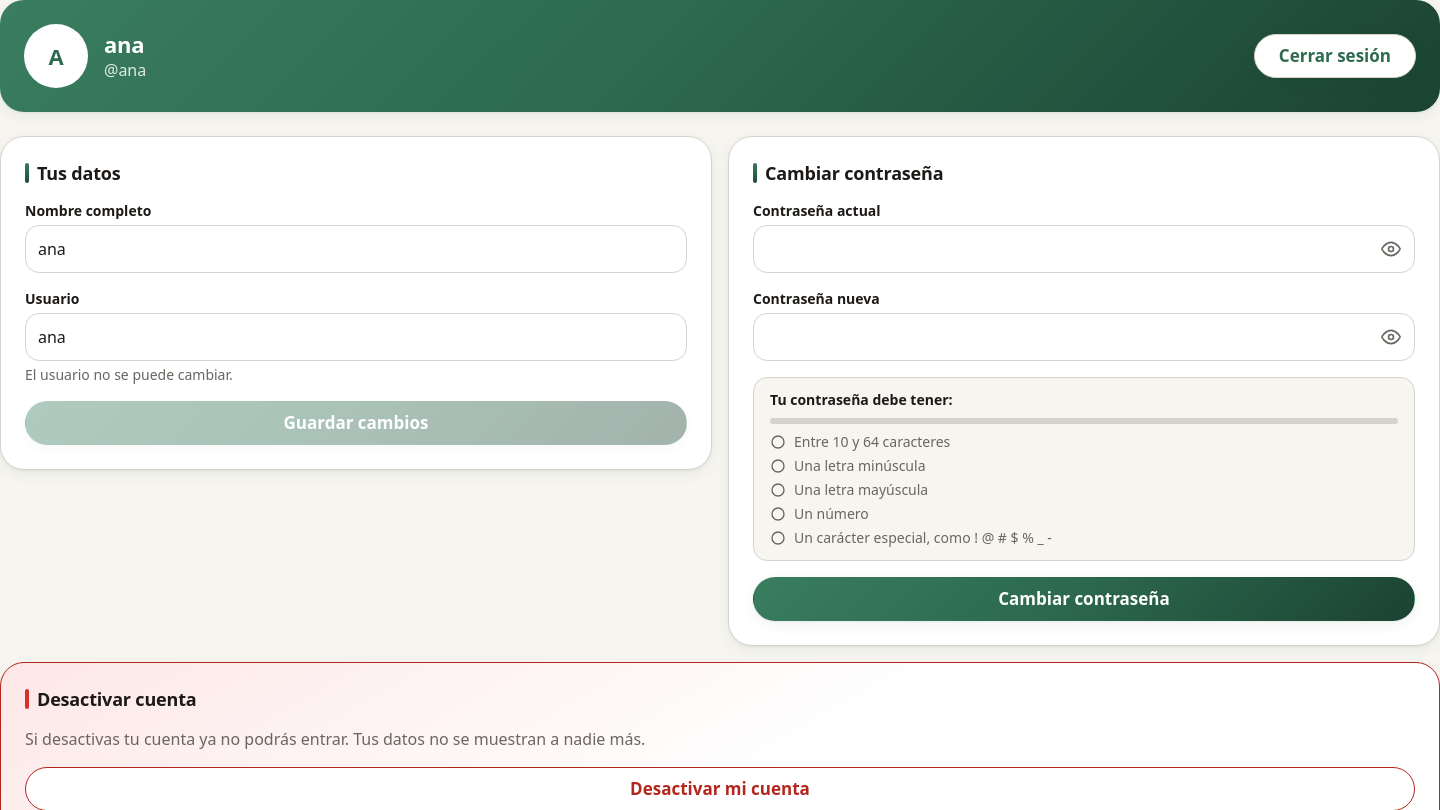
Test: Account › says the current password is wrong and keeps the session
Type "no-es-esta" into the password field labelled "Contraseña actual" at (1062, 249), box [754,226,1369,272]
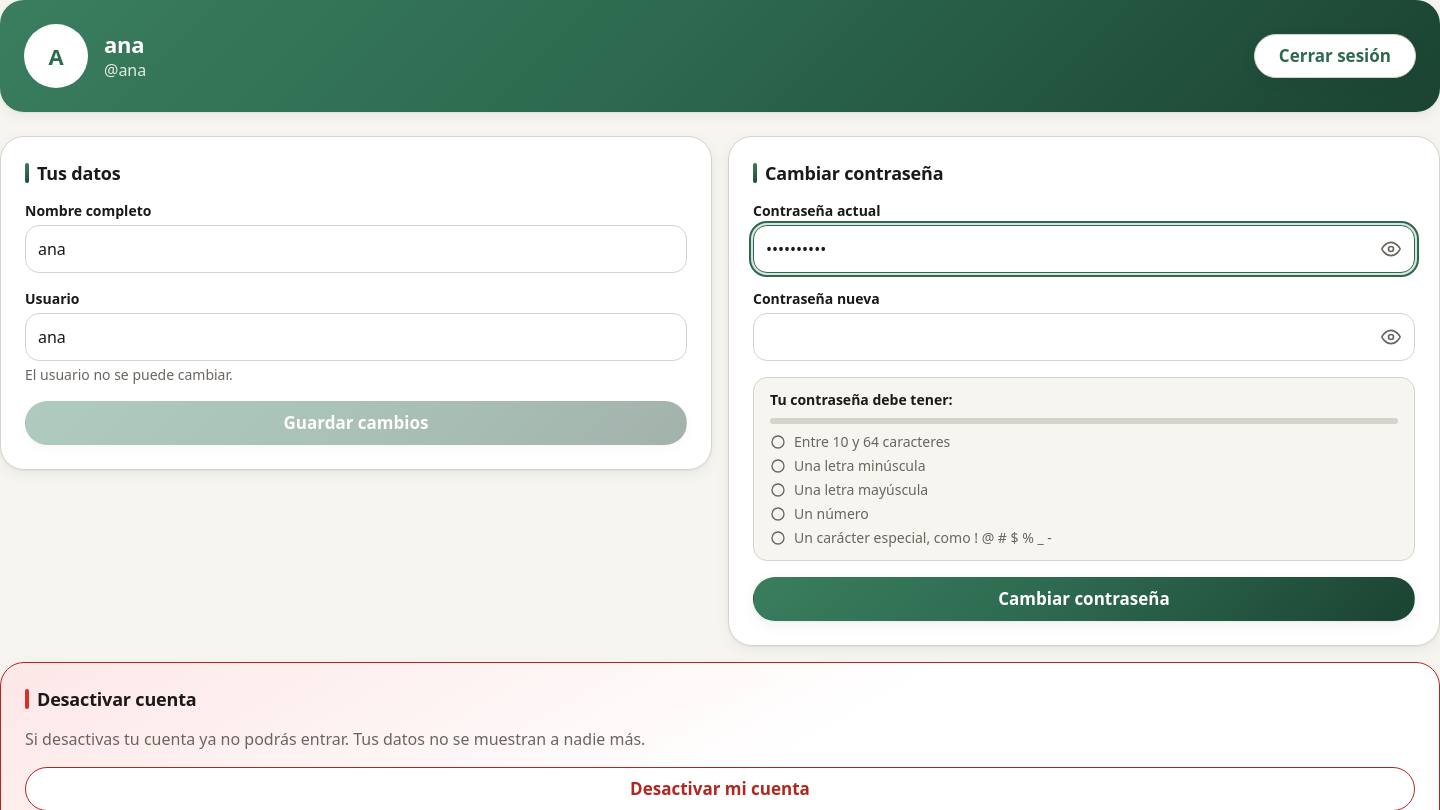
Type "Otra-clave-456!" into the password field labelled "Contraseña nueva" at (1062, 337), box [754,314,1369,360]
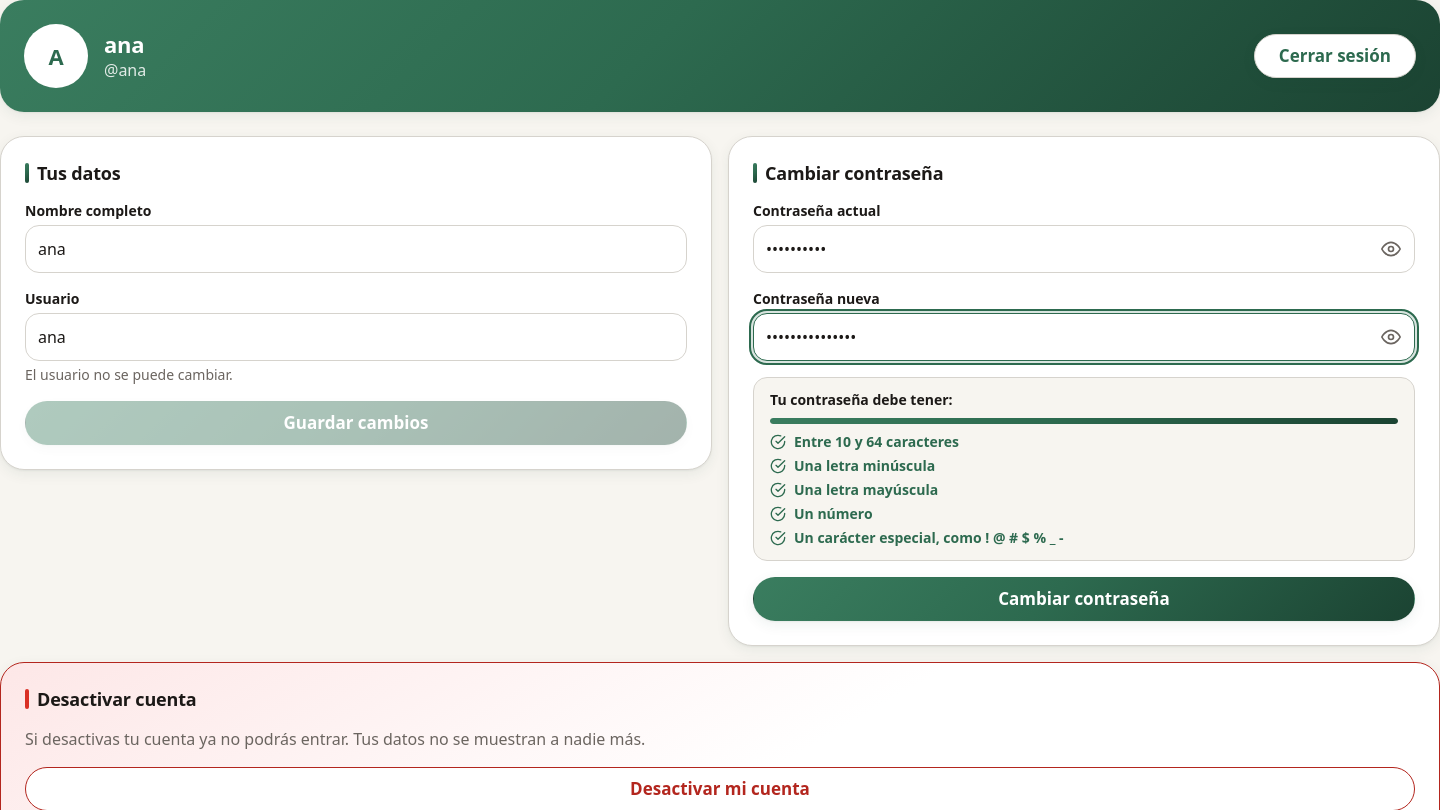
Click the button "Cambiar contraseña" at (1084, 599), box [753,577,1415,621]
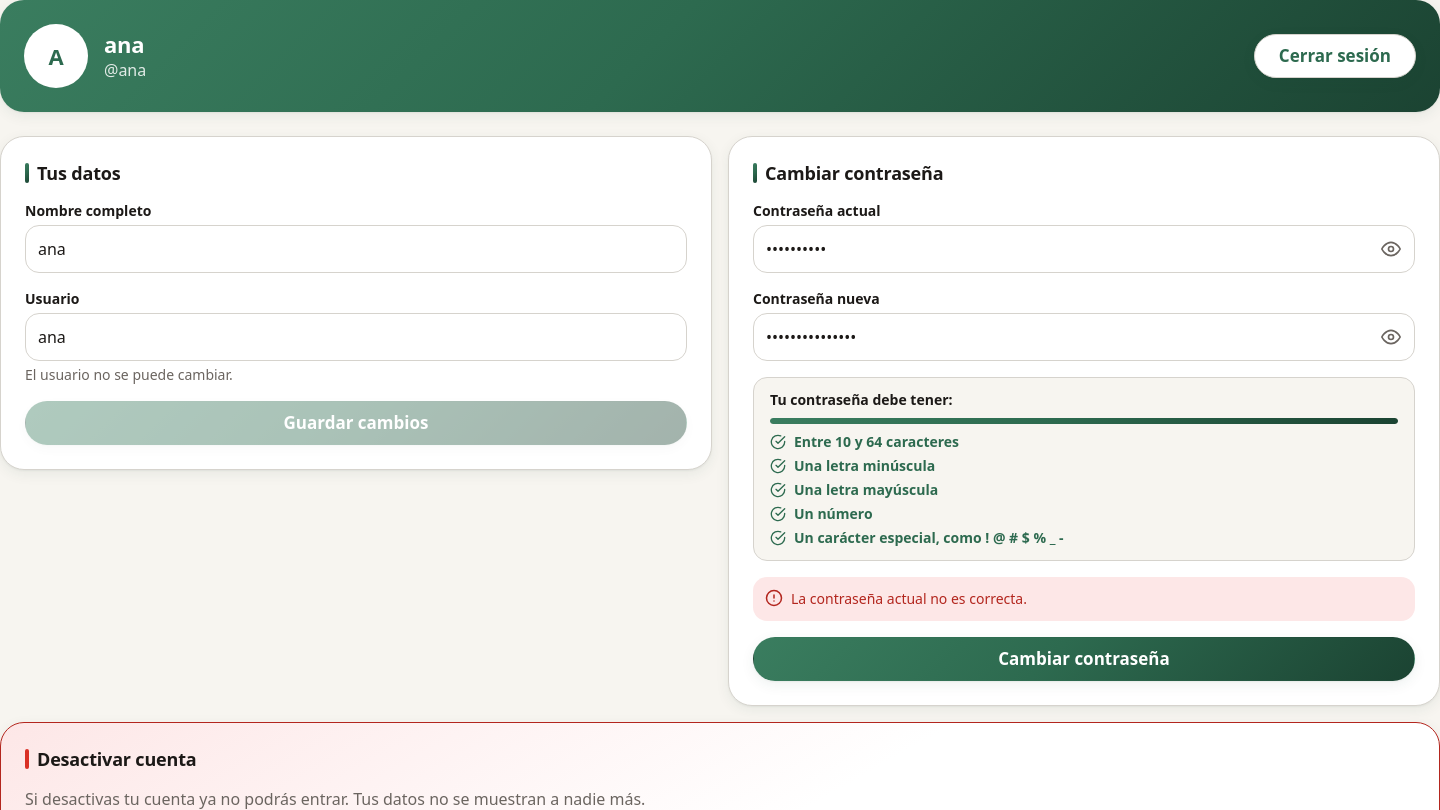
Check: the text "La contraseña actual no es correcta." is shown, box [753,577,1415,621]
